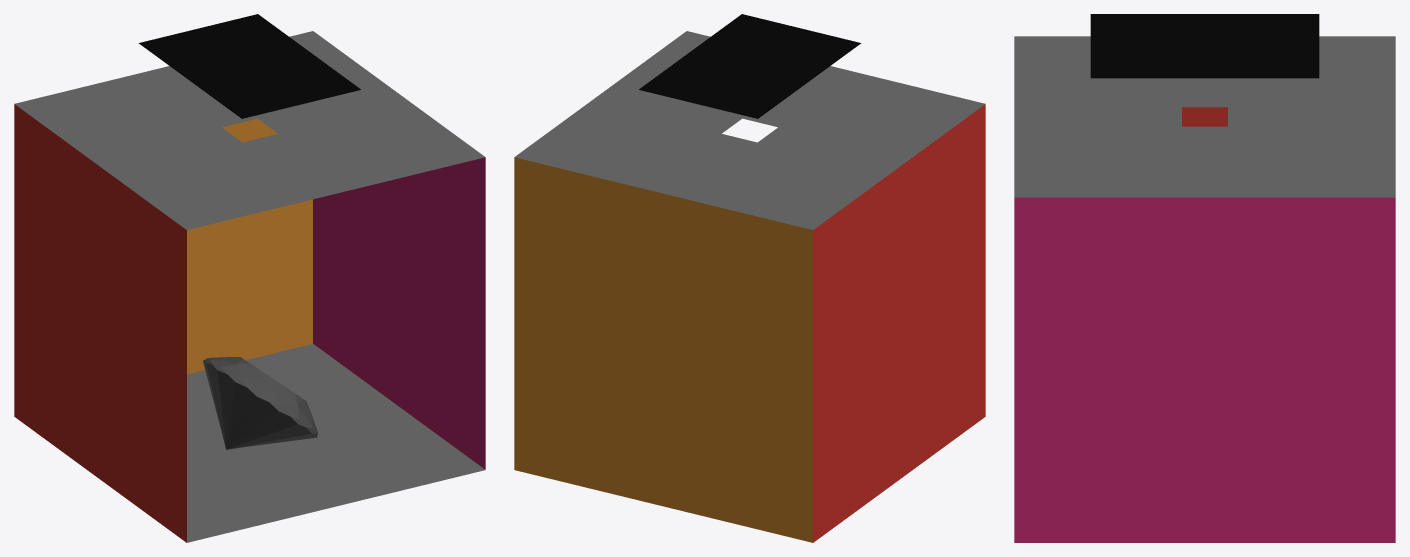
Rendered from cornell_box3.obj.
The picture shows the model from 3 angles, left to right: view 1: azimuth 30°, elevation 25°; view 2: azimuth 150°, elevation 25°; view 3: azimuth 270°, elevation 25°; orthographic projection. The views are drawn at different scales.
Parts seen in each view (by area): view 1: object 2, pCone1; view 2: object 2; view 3: object 2.
Part boxes in pixels (box(x1,y1,x2,y2)): object 2: box(14, 14, 485, 542); pCone1: box(203, 357, 318, 449); object 2: box(514, 14, 985, 542); object 2: box(1014, 14, 1395, 542).
Bounding box in the file's own units: 1 × 1.21 × 1.
